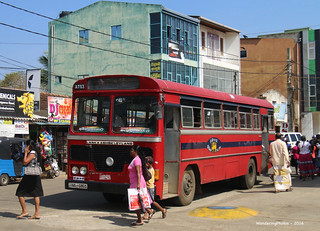bus: (66, 74, 272, 206)
motorbike: (41, 154, 61, 179)
threewheel: (1, 136, 26, 185)
